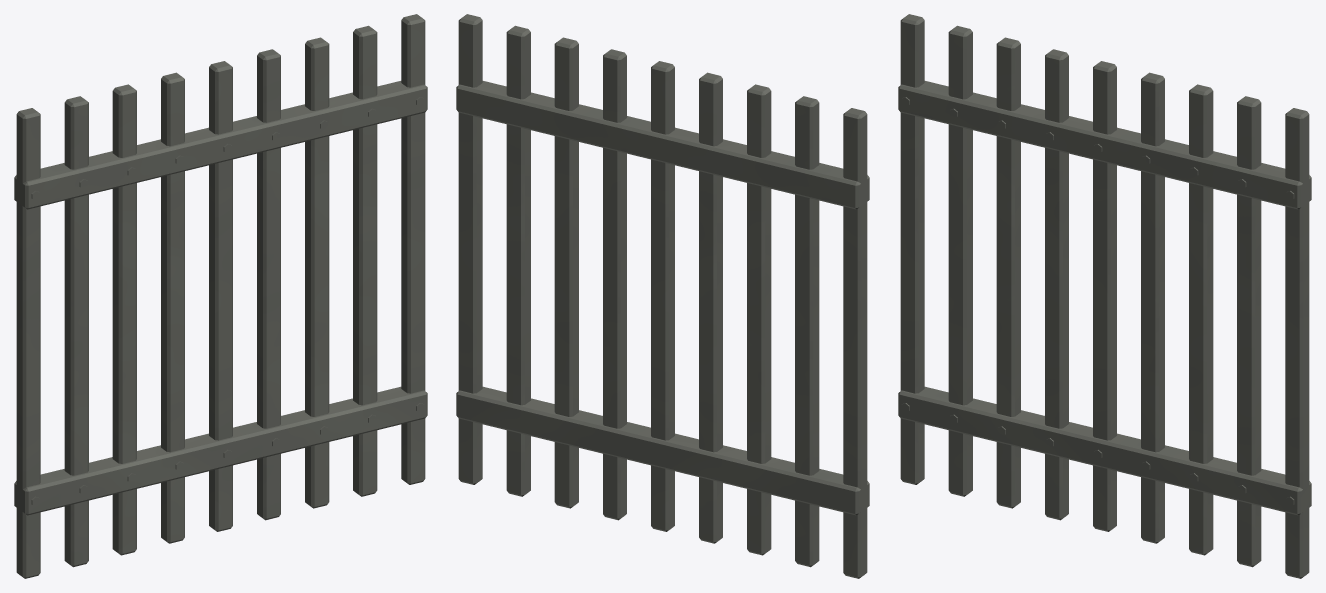
Rendered from WarrensC_CCS33_RisingBarGateLeaf_Mars_SM.fbx.
3 views of the same model, side by side, from view 1: azimuth 30°, elevation 25°; view 2: azimuth 150°, elevation 25°; view 3: azimuth 330°, elevation 25° (orthographic).
Visible parts, largest first — view 1: WarrensC_CCS33_RisingBarGateLeaf_Mars_SM.001; view 2: WarrensC_CCS33_RisingBarGateLeaf_Mars_SM.001; view 3: WarrensC_CCS33_RisingBarGateLeaf_Mars_SM.001.
Boxes of the visible parts, x1,y1,x2,y2 form: WarrensC_CCS33_RisingBarGateLeaf_Mars_SM.001: [14, 14, 427, 578]; WarrensC_CCS33_RisingBarGateLeaf_Mars_SM.001: [456, 14, 869, 578]; WarrensC_CCS33_RisingBarGateLeaf_Mars_SM.001: [898, 14, 1311, 578].
Bounding box in the file's own units: 200 × 12 × 220.
